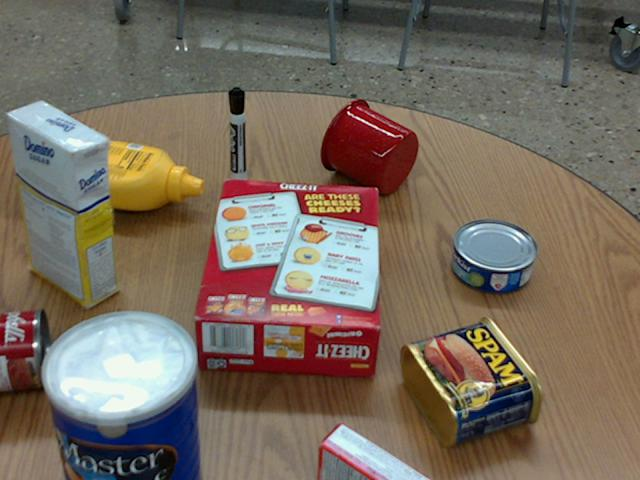cracker_box: (193, 181, 380, 374)
gelatin_box: (316, 421, 430, 479)
large_marker: (227, 87, 245, 184)
master_chef_can: (38, 310, 199, 479)
mug: (320, 98, 418, 194)
mustard_bottle: (18, 131, 202, 209)
potted_meat_can: (402, 316, 543, 447)
sugar_box: (7, 100, 115, 308)
tomato_soup_can: (0, 307, 50, 389)
tuna_fish_can: (451, 219, 537, 292)
